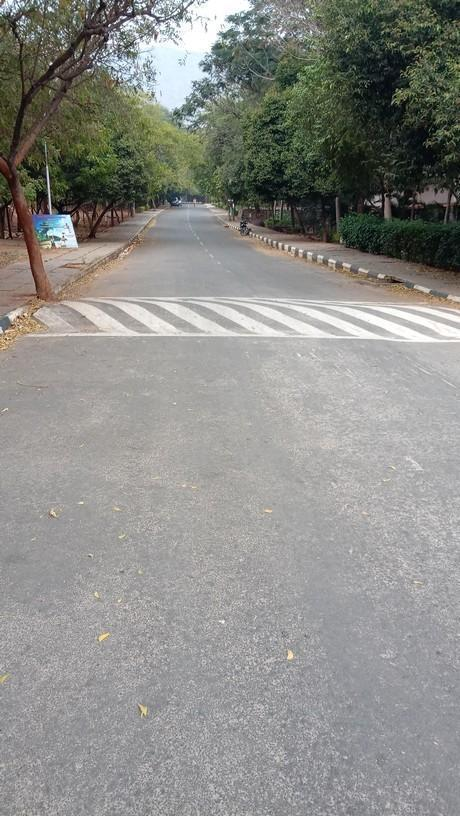speedbreaker: (10, 294, 460, 342)
